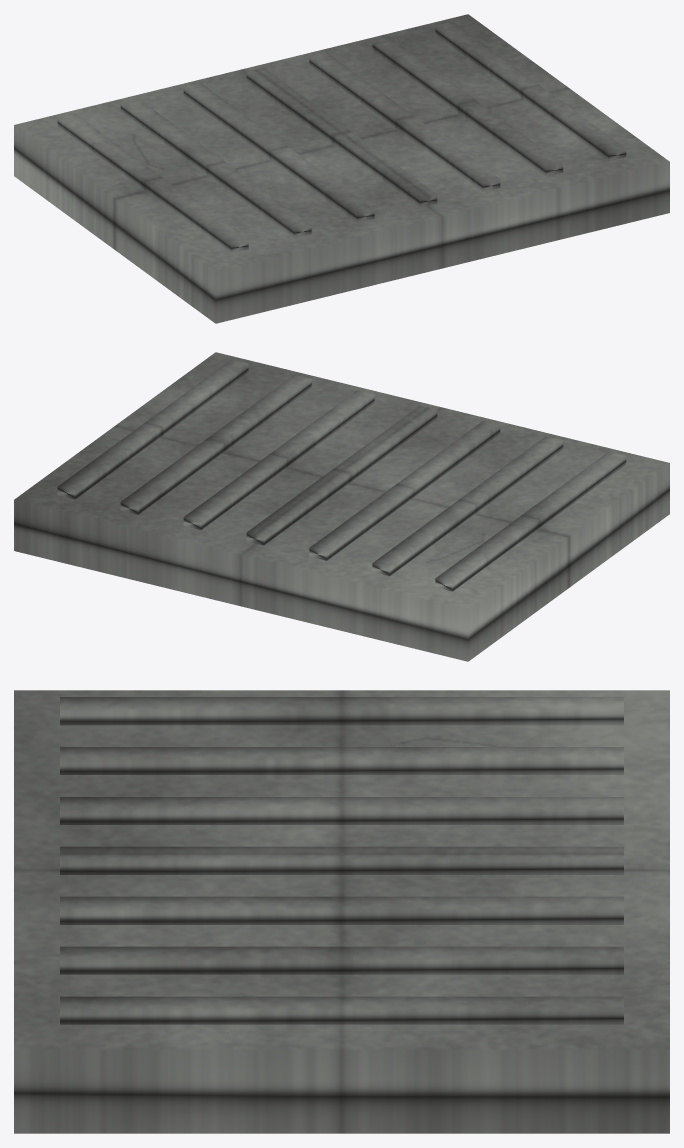
The model's file is RES_DrainCover_0p65m.obj.
3 views of the same model, one above another, from view 1: azimuth 30°, elevation 25°; view 2: azimuth 150°, elevation 25°; view 3: azimuth 270°, elevation 25° (orthographic). The views are drawn at different scales.
Visible parts, largest first — view 1: RES_DrainCover_0p65m; view 2: RES_DrainCover_0p65m; view 3: RES_DrainCover_0p65m.
Part boxes in pixels (left/top/right/bottom): RES_DrainCover_0p65m: left=14, top=14, right=669, bottom=323; RES_DrainCover_0p65m: left=14, top=352, right=669, bottom=661; RES_DrainCover_0p65m: left=14, top=690, right=669, bottom=1133.
Size of the model in its own units: 0.65 by 0.084 by 0.5.
Materials: 1 (1 with a texture image).
